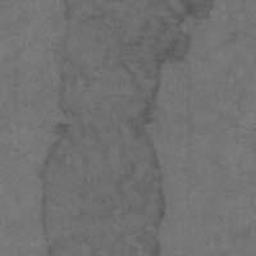Water spot: (33, 0, 215, 256)
